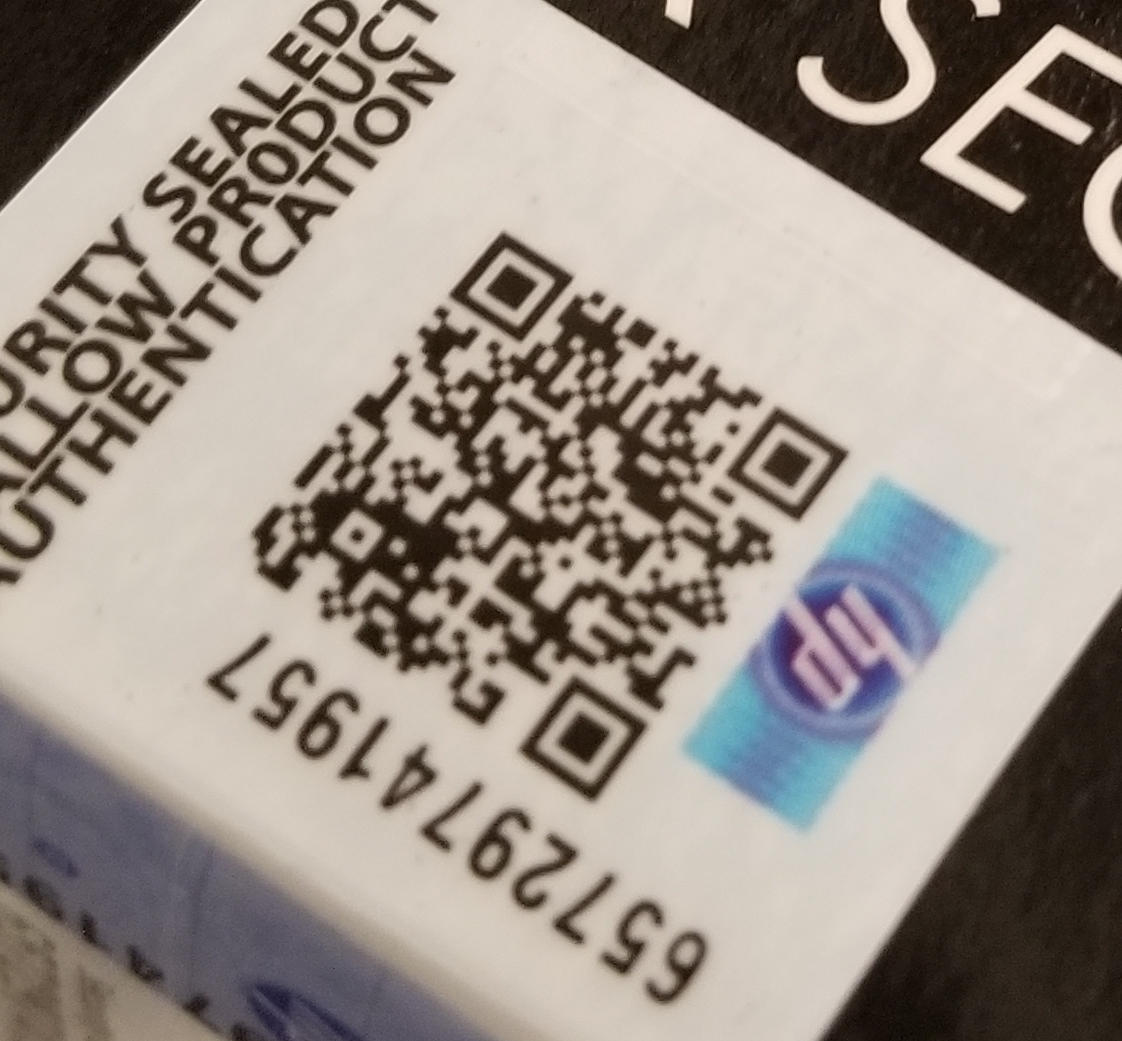QR_CODE: (230, 205, 863, 816)
